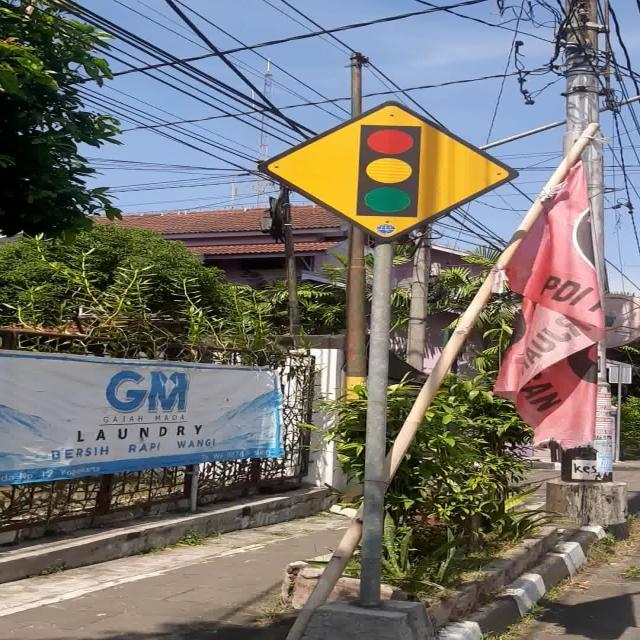Lampu Lalu Lintas: (258, 100, 519, 243)
